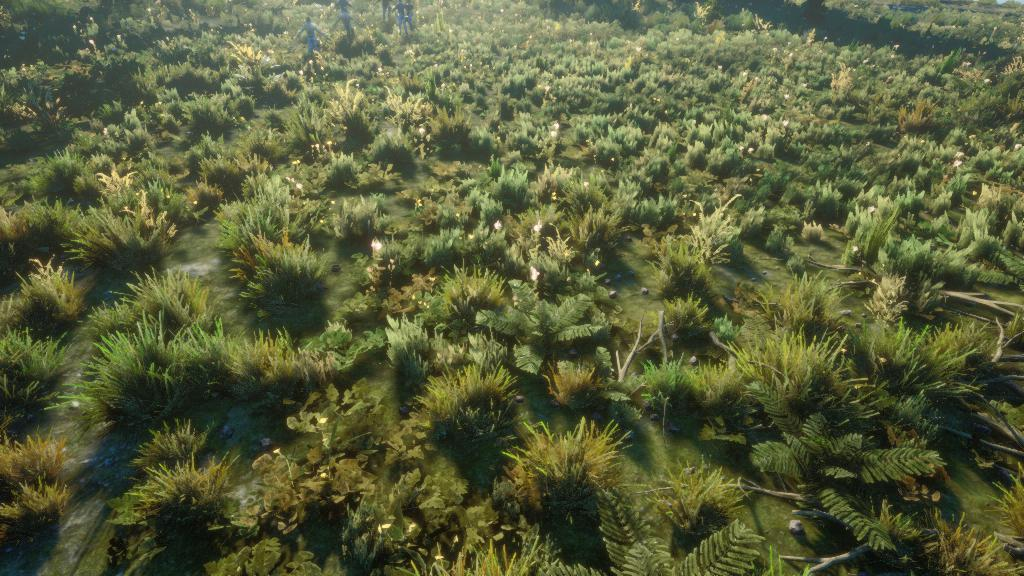human: (287, 10, 336, 66)
